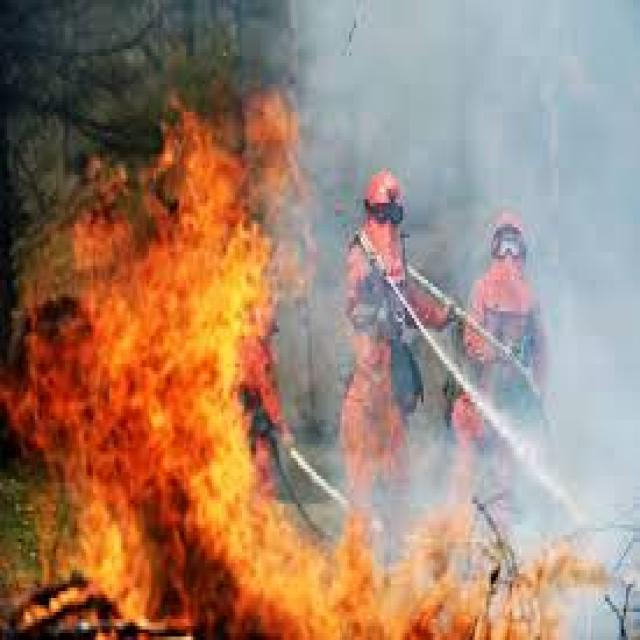Fire: (0, 87, 290, 640), (74, 494, 579, 640)
Smoke: (302, 0, 637, 172), (551, 307, 640, 636)
